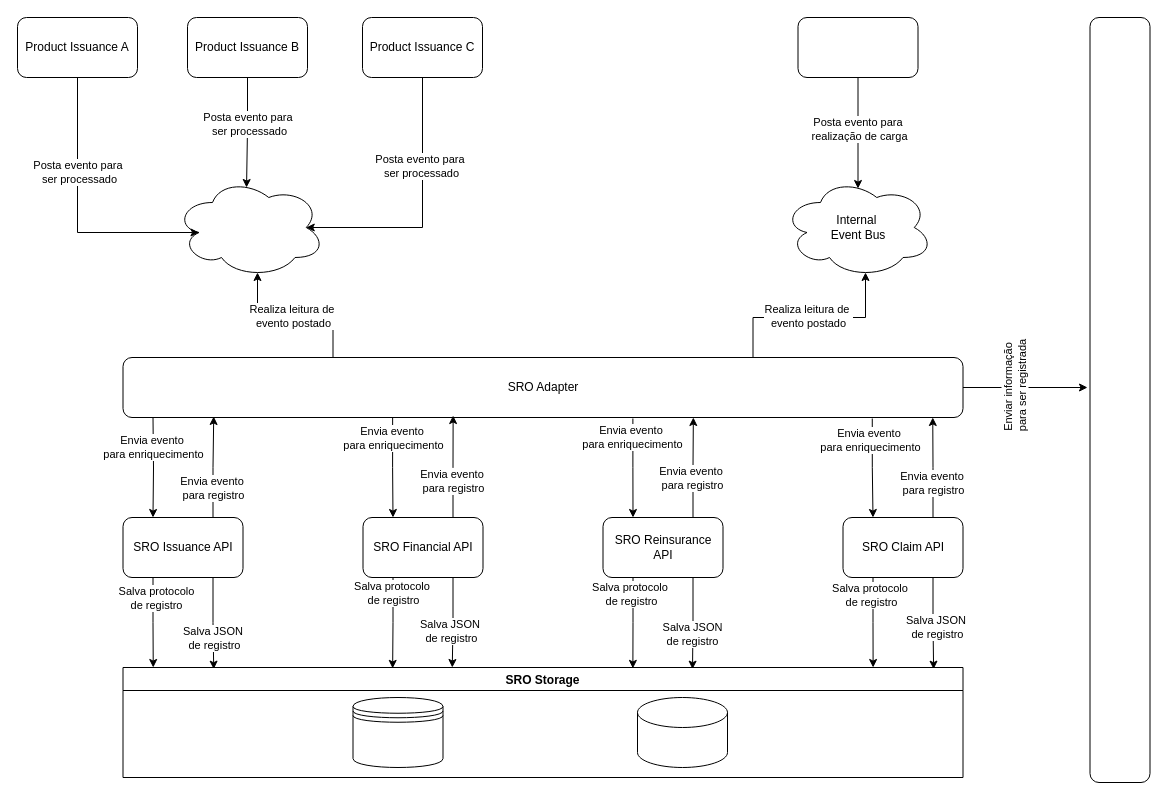
Image size: 1168x800. Some labels were removed from this diagram. The box of each missing label's shape, as (x1, y1, x2, y2) in pixels:
Amazon S3: (636, 696, 728, 768)
Azure Table Storage: (352, 696, 443, 768)
Corporation Event Bus: (174, 176, 325, 278)
Register API (B3): (1089, 16, 1150, 782)
SRO Manager API: (797, 16, 918, 78)
